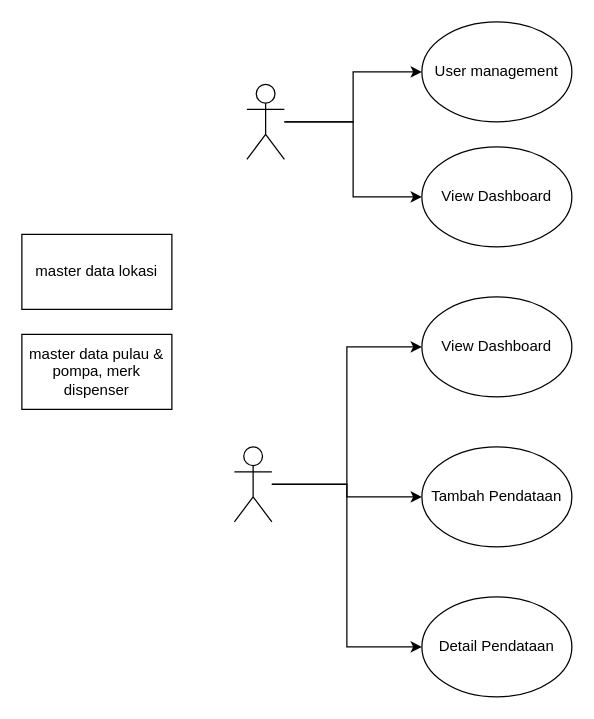
The diagram is 594 pixels wide and 719 high, and some of its shapes have lost their labels. Each missing label, with the box of its shape:
Admin region: (246, 83, 284, 159)
EoS: (233, 446, 272, 522)
